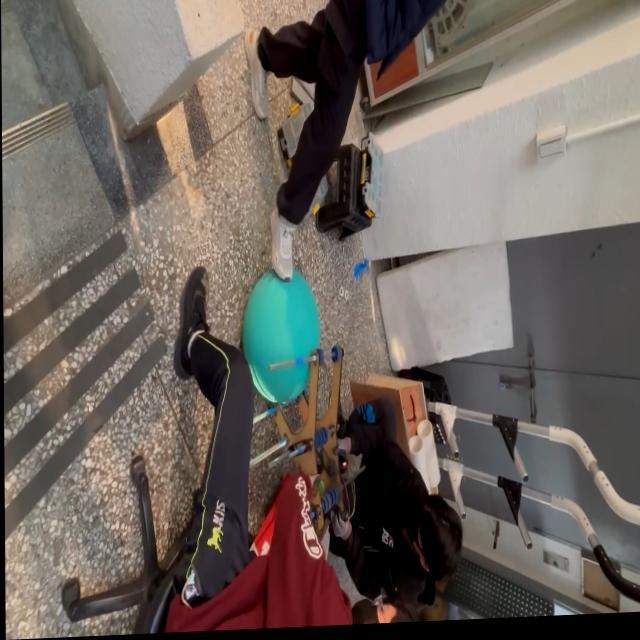ALGAE: (240, 264, 321, 407)
